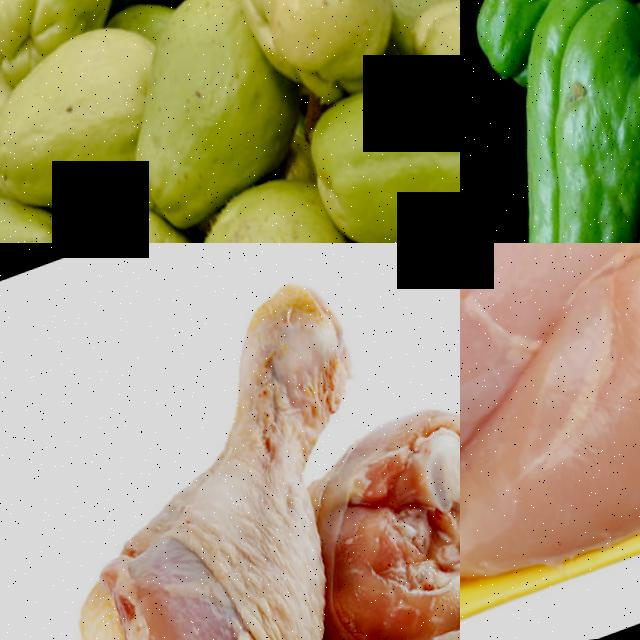chayote: (460, 0, 640, 243), (119, 0, 282, 200), (285, 68, 460, 243), (0, 48, 126, 210), (253, 0, 422, 104), (460, 0, 640, 68), (9, 196, 194, 243), (0, 0, 133, 60)
chicken breast: (460, 243, 640, 640), (460, 243, 640, 401)
chicken thigh: (0, 276, 438, 640)
